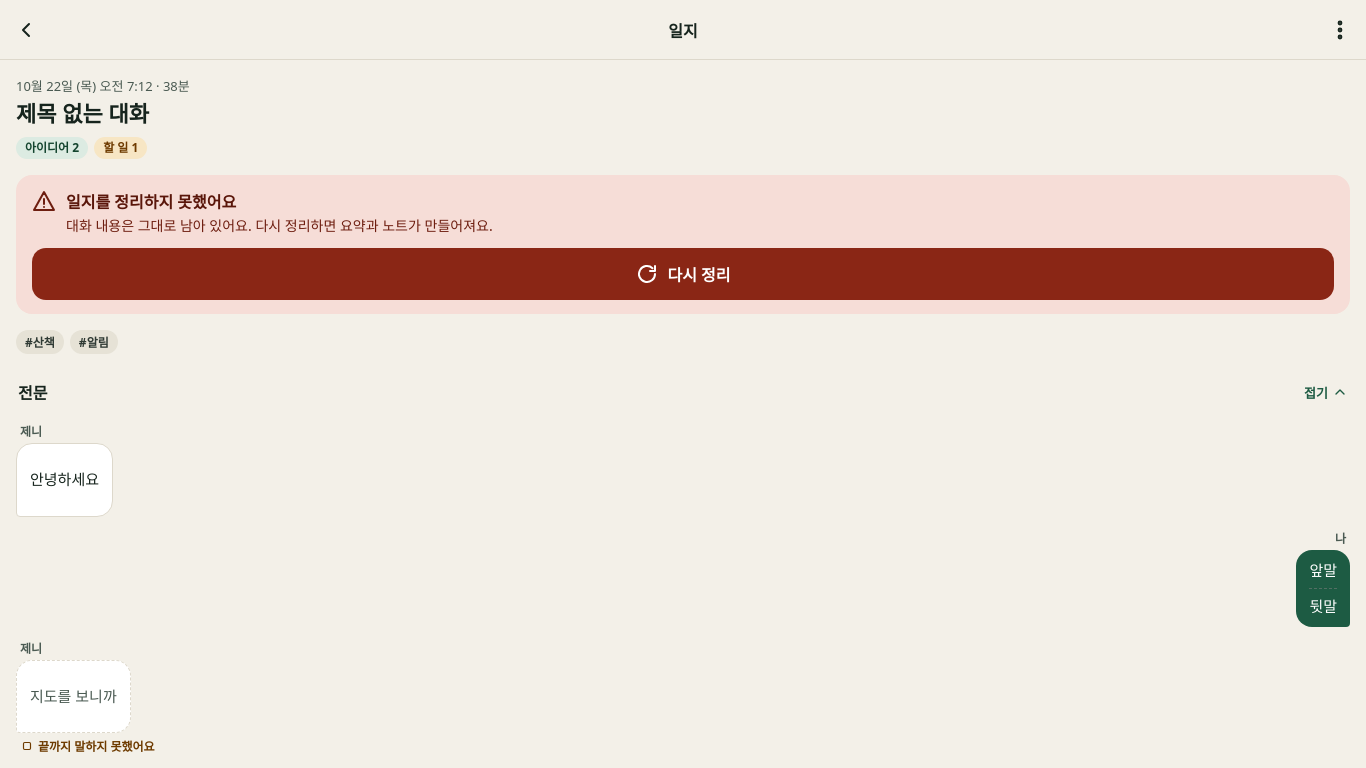
it: JournalDetailScreen 정리 상태 › 정리 실패면 오류 안내와 다시 정리가 있고 누르면 정리 중이 된다
This screenshot has width=1366, height=768.
Check: the message named "정리 실패" shows "일지를 정리하지 못했어요", box 66,192 -> 236,214
Click the button "다시 정리".
click(683, 274)  # box 32,248 -> 1334,300
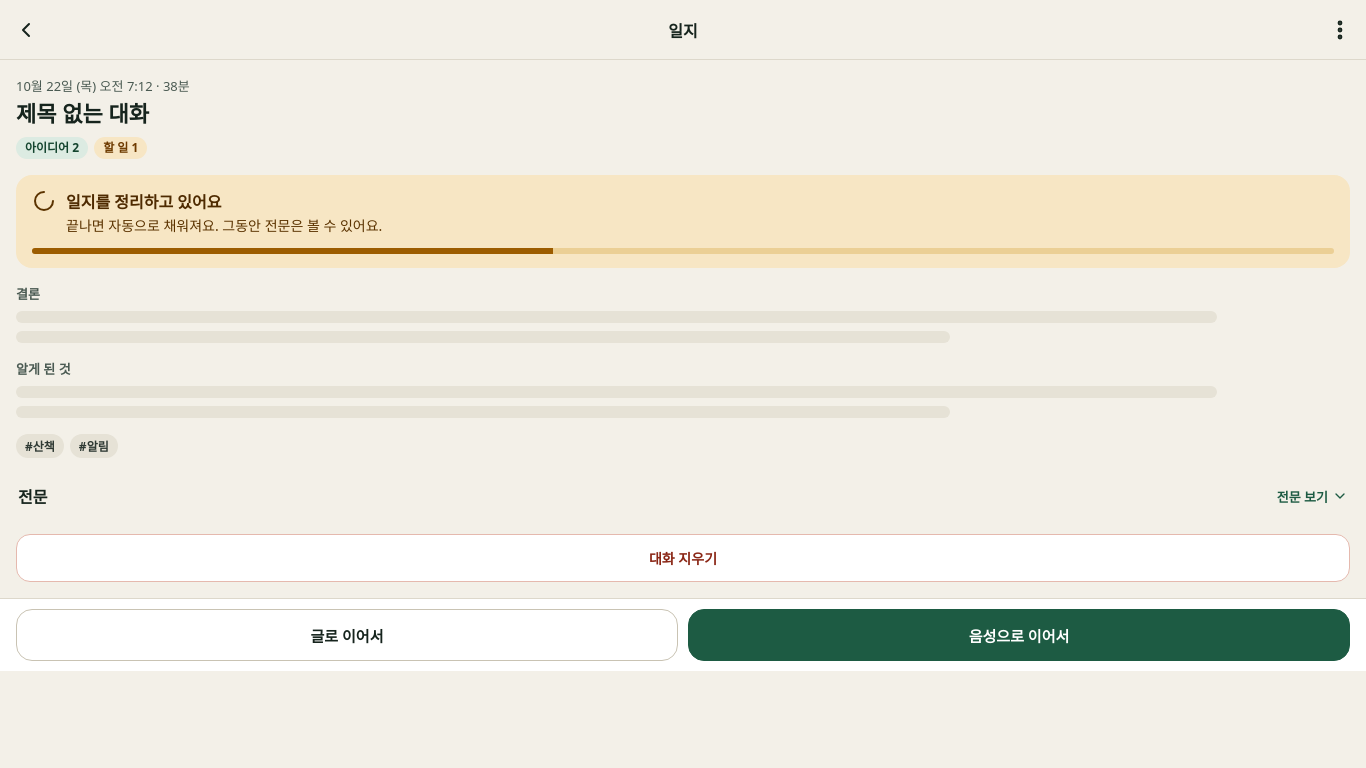
Check: the message named "정리 중" is shown, box 16,176 -> 1350,268
